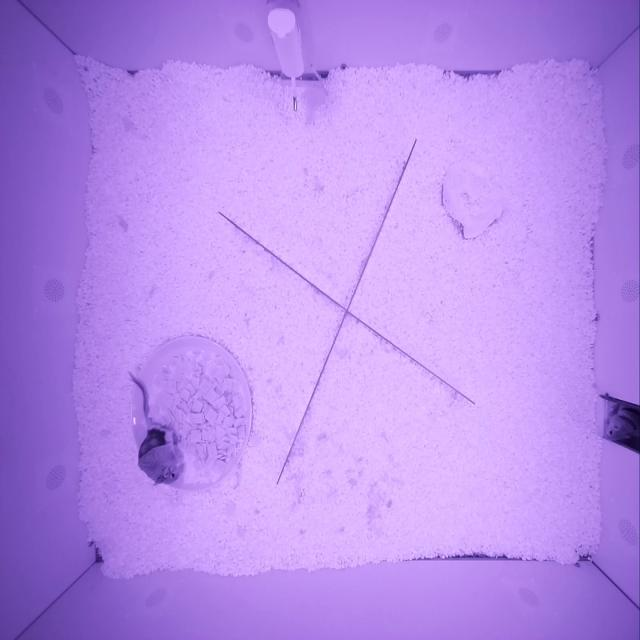adult_back: (138, 422, 179, 485)
pup_h_stripe: (606, 404, 639, 441)
